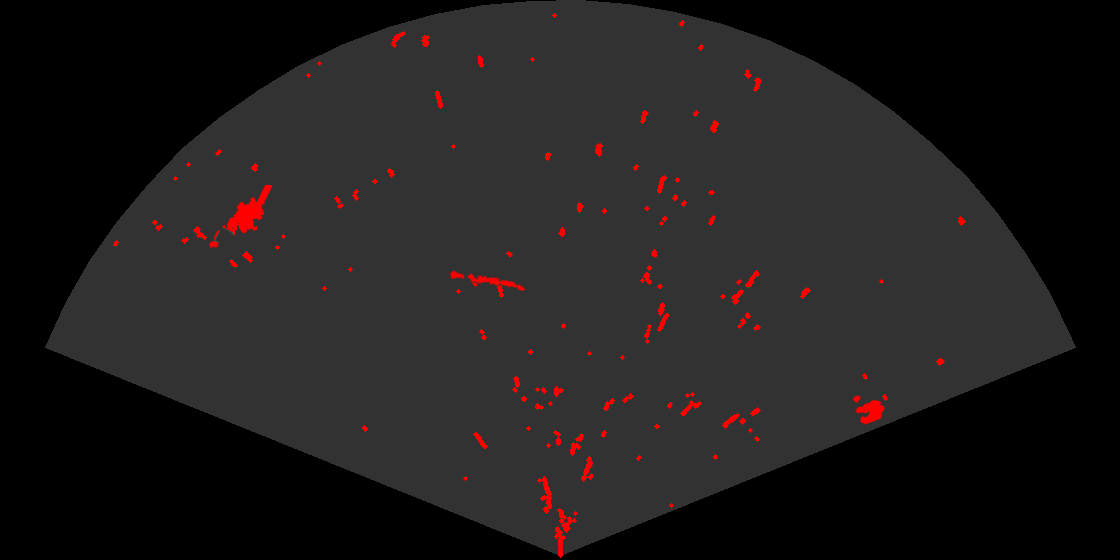ball: (851, 394, 886, 426)
chain: (448, 269, 527, 292)
frogman: (208, 185, 274, 250)
